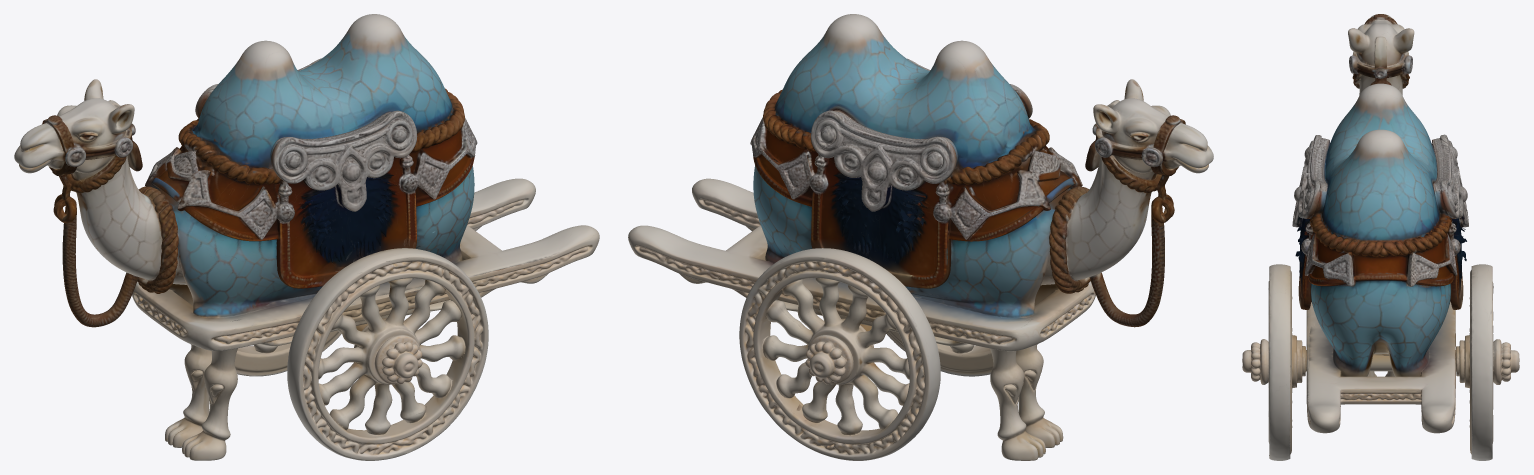
The picture shows the model from 3 angles, left to right: view 1: azimuth 30°, elevation 25°; view 2: azimuth 150°, elevation 25°; view 3: azimuth 270°, elevation 25°; orthographic projection. The views are drawn at different scales.
Parts seen in each view (by area): view 1: texture_pbr_v128; view 2: texture_pbr_v128; view 3: texture_pbr_v128.
Boxes of the visible parts, x1,y1,x2,y2 form: texture_pbr_v128: (14,14,599,460); texture_pbr_v128: (628,14,1213,460); texture_pbr_v128: (1242,14,1519,460).
Bounding box in the file's own units: 1.07 × 0.7212 × 0.5358.
Materials: 1 (1 with a texture image).
